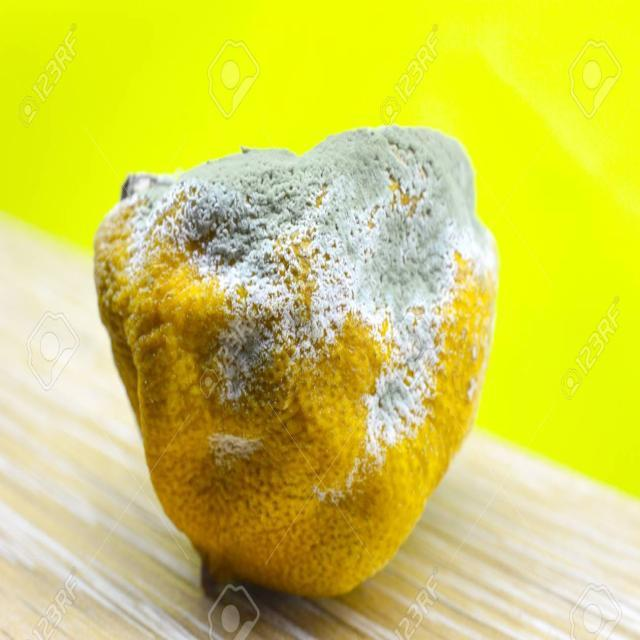Rotten: (92, 124, 500, 595)
